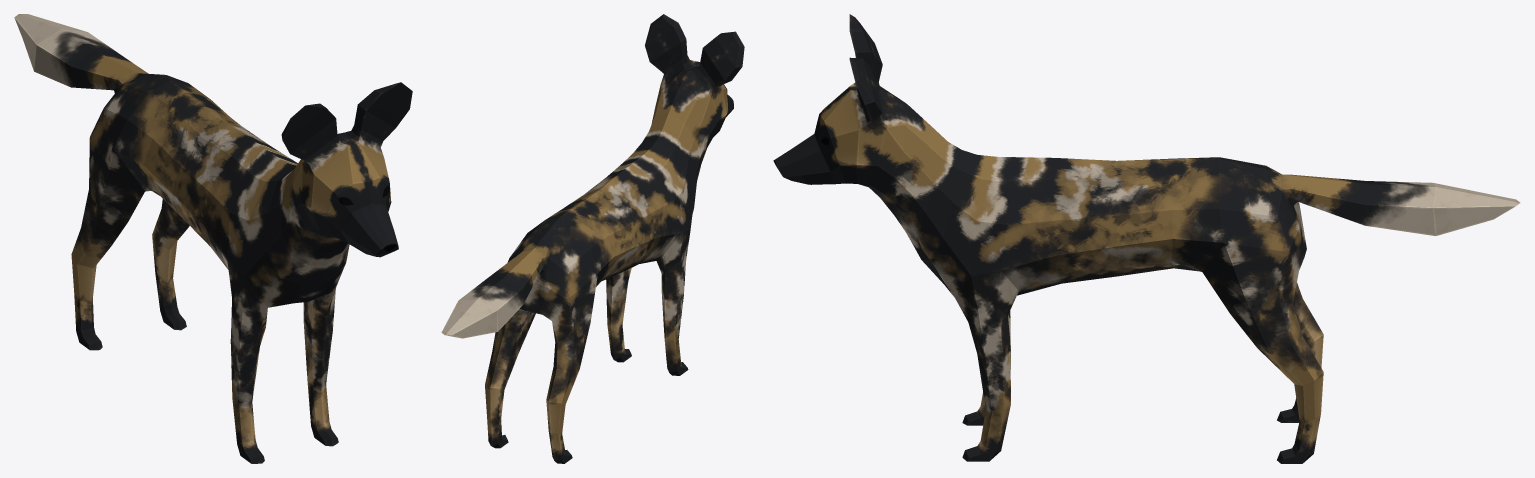
File: AfricanWildDog.obj
3 views of the same model, side by side, from view 1: azimuth 30°, elevation 25°; view 2: azimuth 150°, elevation 25°; view 3: azimuth 270°, elevation 25° (orthographic). The views are drawn at different scales.
Parts seen in each view (by area): view 1: AfricanWildDog_mesh; view 2: AfricanWildDog_mesh; view 3: AfricanWildDog_mesh.
Boxes of the visible parts, bbox=[...] form: AfricanWildDog_mesh: bbox=[14, 14, 412, 463]; AfricanWildDog_mesh: bbox=[441, 14, 744, 463]; AfricanWildDog_mesh: bbox=[773, 14, 1520, 463].
Bounding box in the file's own units: 1.17 × 3.51 × 5.9.
Materials: 1 (1 with a texture image).
